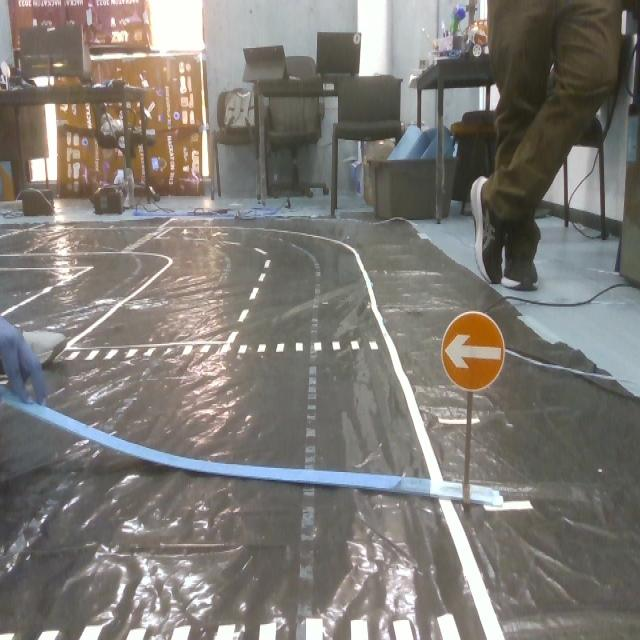forward: (438, 310, 508, 397)
